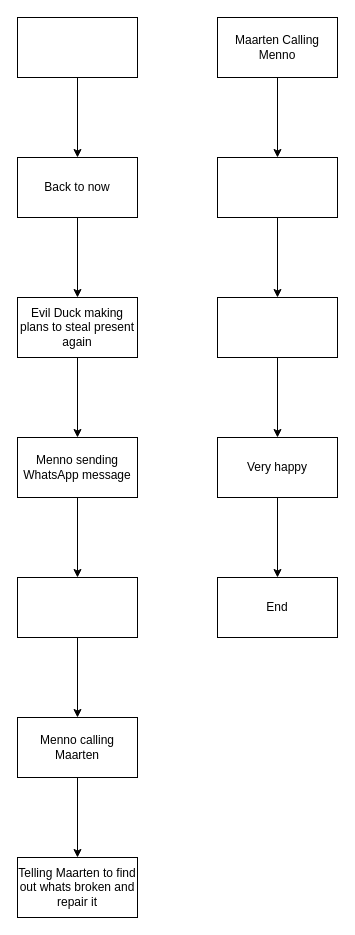
Image size: 355x935. Some labels were removed from this diagram. Here are the shapes that lost their labels. From the top down, the centre of each, then its label:
At (77,47): "1 year ago flashback".
At (277,187): "Telling code is fixed".
At (277,327): "Maarten recieving message".
At (77,607): "Message was not sent".
